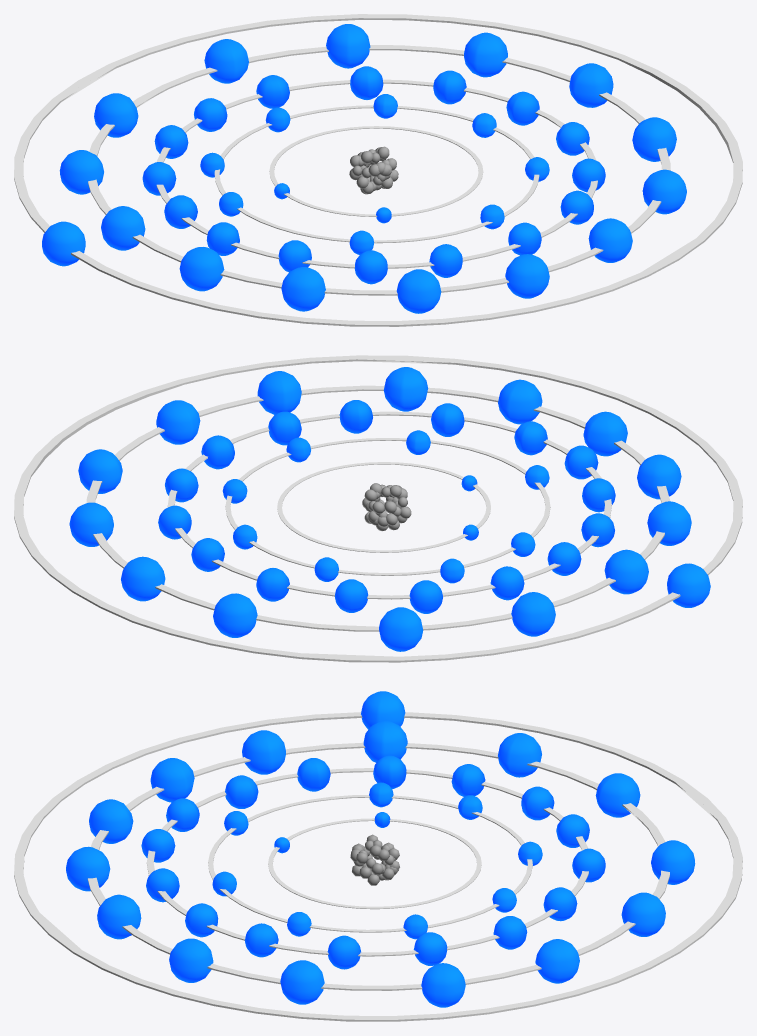
File: Techtium atom.fbx
The picture shows the model from 3 angles, top to bottom: view 1: azimuth 30°, elevation 25°; view 2: azimuth 150°, elevation 25°; view 3: azimuth 270°, elevation 25°; orthographic projection.
Parts seen in each view (by area): view 1: polySurface4_4, polySurface4_3, polySurface4_2, polySurface4_1, polySurface4, polySurface3_19, polySurface3_14, polySurface3_29, polySurface3_32, polySurface3_38, polySurface3_35, polySurface3_28 (+26 smaller); view 2: polySurface4_4, polySurface4_3, polySurface4_2, polySurface4_1, polySurface4, polySurface3_33, polySurface3_31, polySurface3_30, polySurface3_39, polySurface3_32, polySurface3_38, polySurface3_37 (+26 smaller); view 3: polySurface4_4, polySurface4_3, polySurface4_2, polySurface4_1, polySurface4, polySurface3_34, polySurface3_37, polySurface3_35, polySurface3_36, polySurface3_29, polySurface3_31, polySurface3_32 (+25 smaller).
Part boxes in pixels (box(x1,y1,x2,y2)): polySurface4_4: box(14, 14, 742, 326); polySurface4_3: box(88, 45, 670, 295); polySurface4_2: box(156, 79, 597, 268); polySurface4_1: box(214, 105, 539, 243); polySurface4: box(269, 126, 483, 216); polySurface3_19: box(396, 269, 441, 313); polySurface3_14: box(281, 267, 325, 311); polySurface3_29: box(179, 247, 224, 291); polySurface3_32: box(326, 24, 370, 68); polySurface3_38: box(505, 254, 549, 298); polySurface3_35: box(464, 32, 507, 77); polySurface3_28: box(101, 206, 145, 250); polySurface4_4: box(14, 355, 742, 662); polySurface4_3: box(86, 385, 670, 631); polySurface4_2: box(167, 411, 611, 599); polySurface4_1: box(225, 438, 550, 575); polySurface4: box(277, 462, 490, 552); polySurface3_33: box(213, 593, 257, 637); polySurface3_31: box(511, 592, 555, 636); polySurface3_30: box(379, 607, 423, 651); polySurface3_39: box(383, 367, 428, 411); polySurface3_32: box(121, 556, 165, 601); polySurface3_38: box(498, 379, 542, 424); polySurface3_37: box(156, 400, 200, 444); polySurface4_4: box(14, 712, 742, 1021); polySurface4_3: box(87, 742, 669, 990); polySurface4_2: box(146, 768, 588, 956); polySurface4_1: box(208, 795, 532, 932); polySurface4: box(268, 818, 481, 909); polySurface3_34: box(421, 963, 465, 1007); polySurface3_37: box(280, 960, 324, 1004); polySurface3_35: box(535, 939, 579, 983); polySurface3_36: box(169, 938, 213, 982); polySurface3_29: box(242, 730, 285, 774); polySurface3_31: box(498, 733, 541, 777); polySurface3_32: box(621, 892, 665, 936).
Size of the model in its own units: 1346 by 90.25 by 1313.
